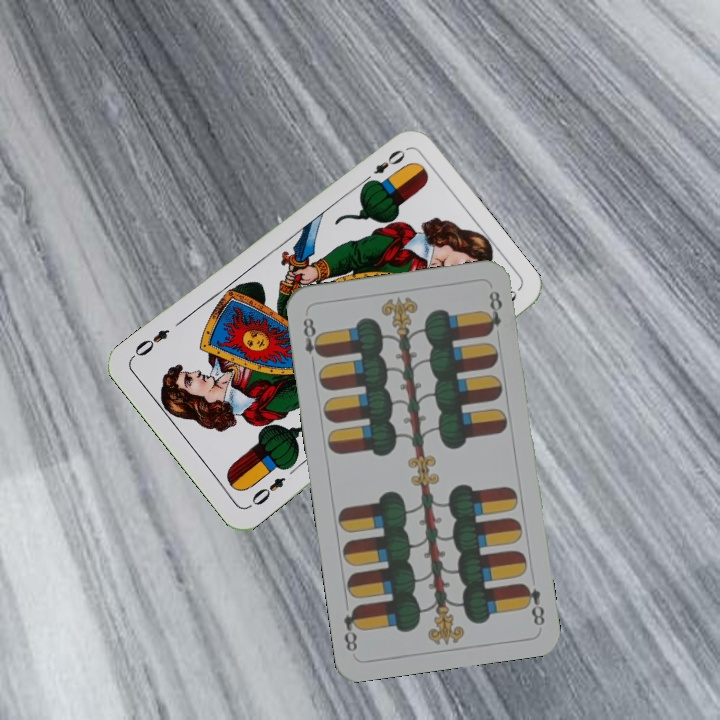E8: (298, 313, 326, 369), (518, 579, 547, 629)
EO: (358, 145, 408, 188), (247, 473, 288, 508)
